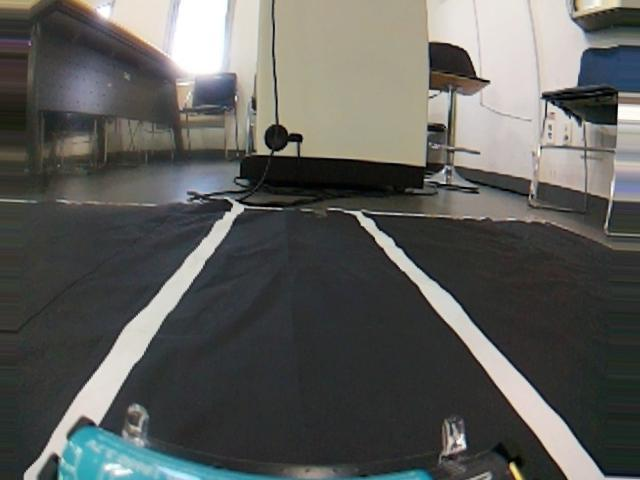straight: (20, 241, 640, 480)
